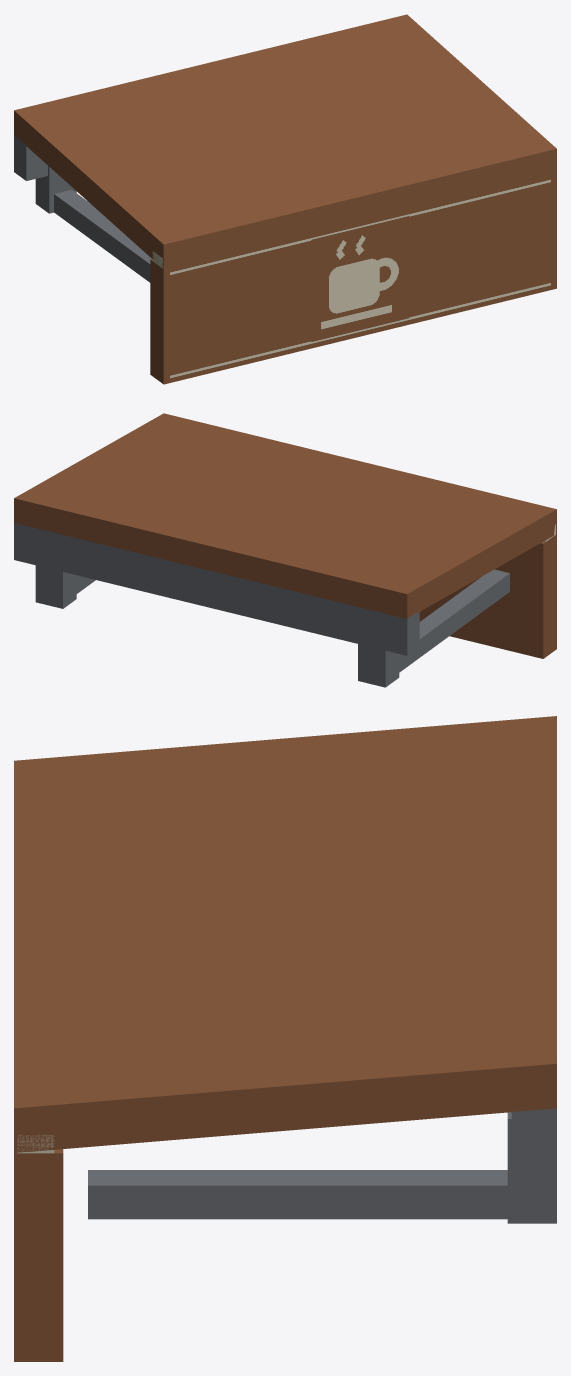
Rendered from building-business-bakery-cafe-compact.glb.
The picture shows the model from 3 angles, top to bottom: view 1: azimuth 30°, elevation 25°; view 2: azimuth 150°, elevation 25°; view 3: azimuth 270°, elevation 25°; orthographic projection. The views are drawn at different scales.
Visible parts, largest first — view 1: business-bakery-cafe-compact; view 2: business-bakery-cafe-compact; view 3: business-bakery-cafe-compact.
Part boxes in pixels (bbox=[...]): business-bakery-cafe-compact: bbox=[14, 14, 556, 384]; business-bakery-cafe-compact: bbox=[14, 413, 556, 687]; business-bakery-cafe-compact: bbox=[14, 716, 556, 1361].
Bounding box in the file's own units: 1 × 0.4 × 0.66.
Materials: 4 (1 with a texture image).
